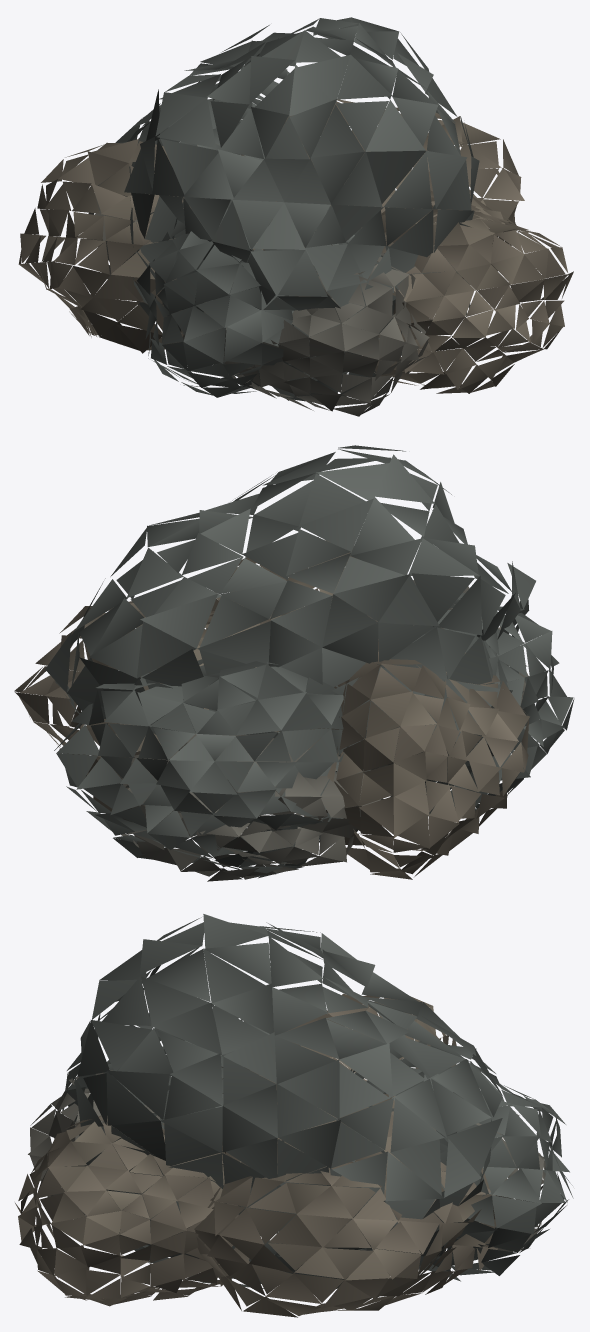
Rendered from standard-lod0.glb.
The picture shows the model from 3 angles, top to bottom: view 1: azimuth 30°, elevation 25°; view 2: azimuth 150°, elevation 25°; view 3: azimuth 270°, elevation 25°; orthographic projection. The views are drawn at different scales.
Parts seen in each view (by area): view 1: weathered-fieldstone; view 2: weathered-fieldstone; view 3: weathered-fieldstone.
Boxes of the visible parts, left/top/right/bottom form: weathered-fieldstone: left=18, top=17, right=573, bottom=416; weathered-fieldstone: left=14, top=445, right=574, bottom=881; weathered-fieldstone: left=15, top=914, right=573, bottom=1317.
Bounding box in the file's own units: 3.24 × 2.33 × 3.36.
